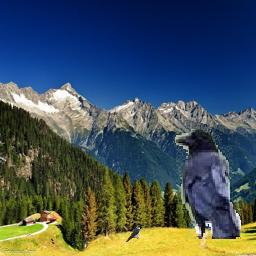Crow: (173, 127, 241, 239)
Swallow: (124, 224, 140, 242)
